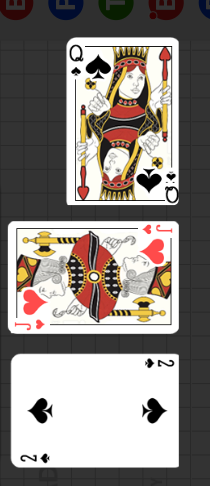2S: (18, 452, 52, 465)
9S: (67, 43, 84, 80)
JH: (140, 224, 173, 237)
